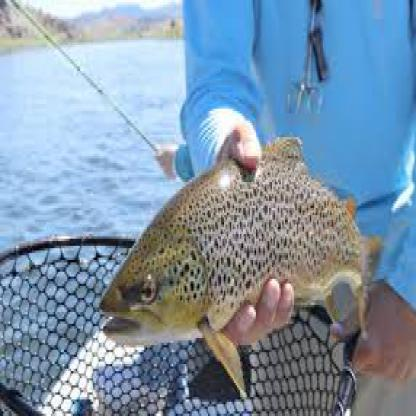fish: (102, 134, 384, 396)
